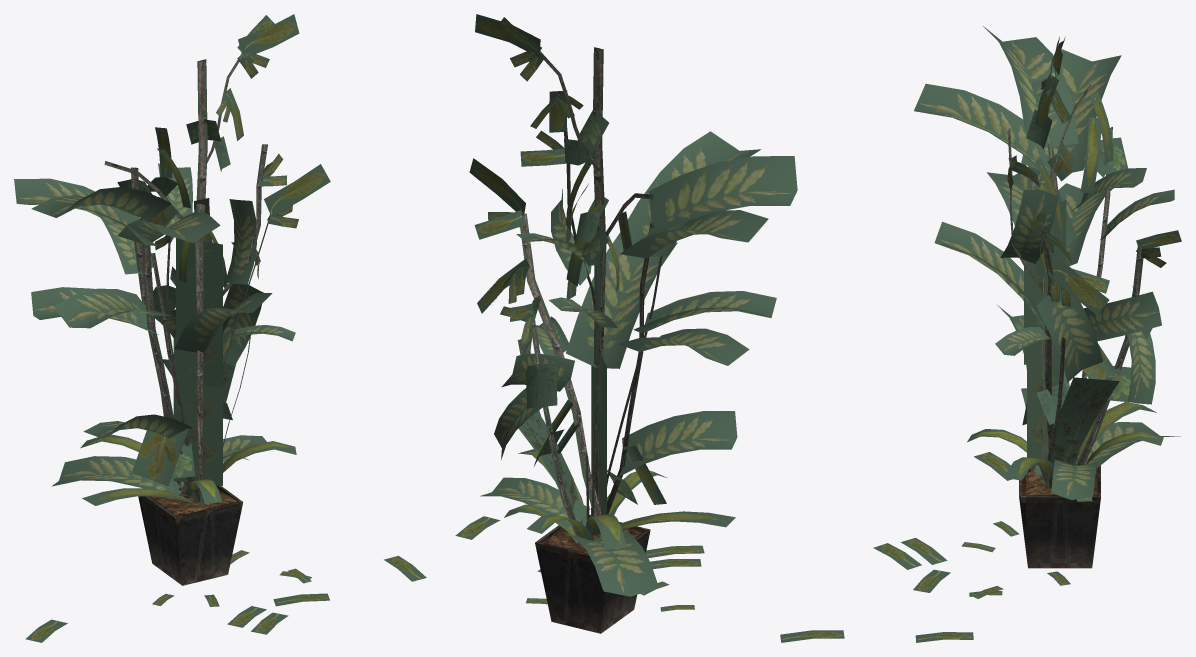
The model's file is sm10_004_pail01a.fbx.
3 renders of one model, left to right at view 1: azimuth 30°, elevation 25°; view 2: azimuth 150°, elevation 25°; view 3: azimuth 270°, elevation 25°, orthographic. The views are drawn at different scales.
Parts seen in each view (by area): view 1: LOD_1_Group_0_Sub_2__sm10_004_Pail01A_B_Mat, LOD_1_Group_0_Sub_1__sm10_004_Pail01A_A_Mat; view 2: LOD_1_Group_0_Sub_2__sm10_004_Pail01A_B_Mat, LOD_1_Group_0_Sub_1__sm10_004_Pail01A_A_Mat; view 3: LOD_1_Group_0_Sub_2__sm10_004_Pail01A_B_Mat, LOD_1_Group_0_Sub_1__sm10_004_Pail01A_A_Mat.
Part boxes in pixels (x1=…): LOD_1_Group_0_Sub_2__sm10_004_Pail01A_B_Mat: x1=14, y1=14, x2=426, y2=642; LOD_1_Group_0_Sub_1__sm10_004_Pail01A_A_Mat: x1=138, y1=483, x2=243, y2=585; LOD_1_Group_0_Sub_2__sm10_004_Pail01A_B_Mat: x1=455, y1=14, x2=844, y2=642; LOD_1_Group_0_Sub_1__sm10_004_Pail01A_A_Mat: x1=535, y1=514, x2=650, y2=633; LOD_1_Group_0_Sub_2__sm10_004_Pail01A_B_Mat: x1=873, y1=26, x2=1181, y2=642; LOD_1_Group_0_Sub_1__sm10_004_Pail01A_A_Mat: x1=1019, y1=465, x2=1100, y2=568.
Size of the model in its own units: 1.4 by 1.94 by 0.969.
